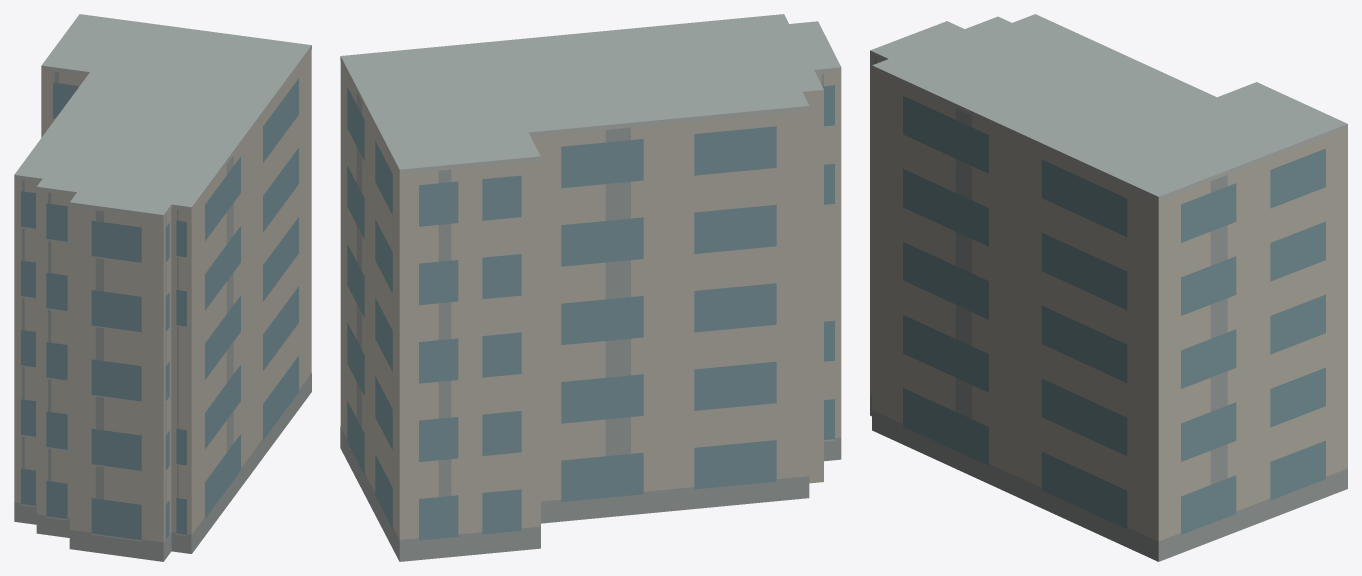
File: survey-upis-33003731.glb
The picture shows the model from 3 angles, left to right: view 1: azimuth 30°, elevation 25°; view 2: azimuth 150°, elevation 25°; view 3: azimuth 270°, elevation 25°; orthographic projection. The views are drawn at different scales.
Visible parts, largest first — view 1: survey-upis-33003731.tmp; view 2: survey-upis-33003731.tmp; view 3: survey-upis-33003731.tmp.
Boxes of the visible parts, x1,y1,x2,y2 form: survey-upis-33003731.tmp: (14,14,311,561); survey-upis-33003731.tmp: (340,14,841,561); survey-upis-33003731.tmp: (870,14,1347,561).
Size of the model in its own units: 21.6 by 20.1 by 23.85.
